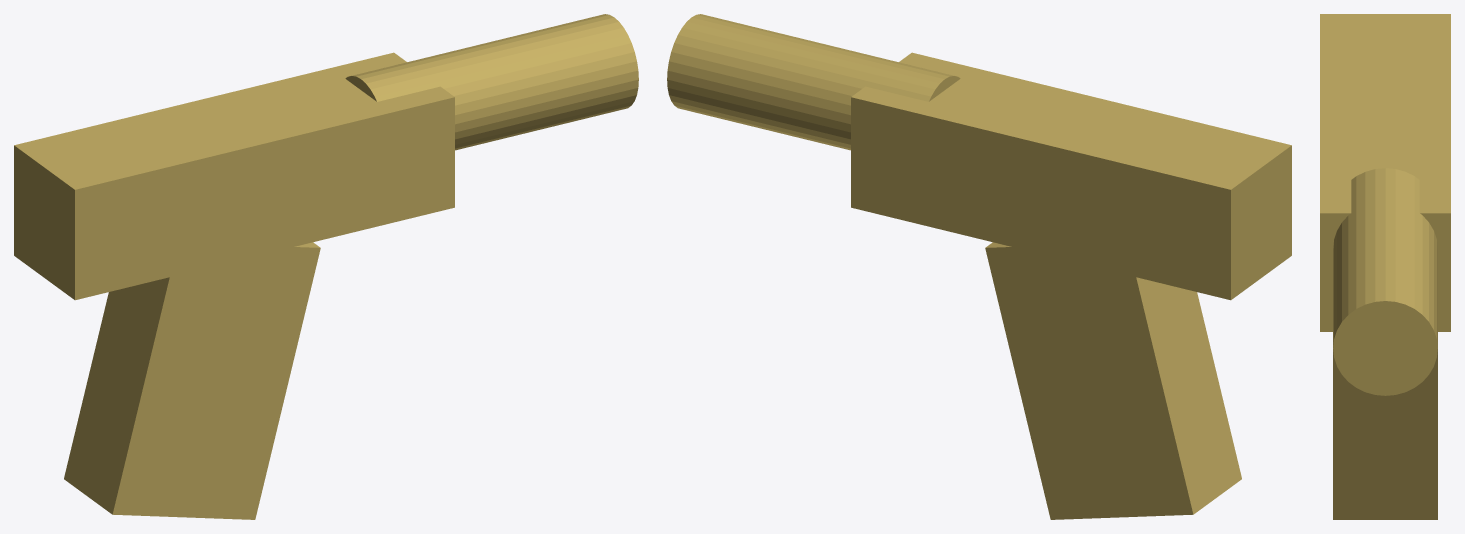
File: W_PilgrimPuckle.fbx
3 views of the same model, side by side, from view 1: azimuth 30°, elevation 25°; view 2: azimuth 150°, elevation 25°; view 3: azimuth 270°, elevation 25° (orthographic). The views are drawn at different scales.
Visible parts, largest first — view 1: W_PilgrimPuckle; view 2: W_PilgrimPuckle; view 3: W_PilgrimPuckle.
Part boxes in pixels (left/top/right/bottom): W_PilgrimPuckle: left=14, top=14, right=638, bottom=519; W_PilgrimPuckle: left=667, top=14, right=1291, bottom=519; W_PilgrimPuckle: left=1320, top=14, right=1450, bottom=519.
Size of the model in its own units: 0.27 by 0.177 by 0.05.
